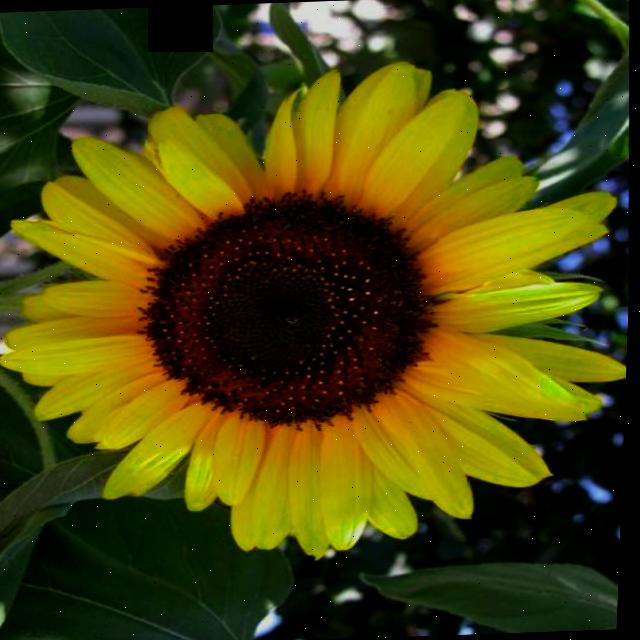sunflower: (0, 35, 639, 614)
